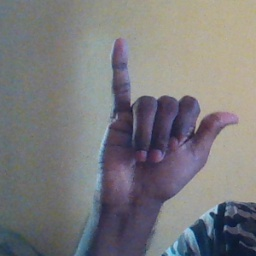J: (90, 37, 241, 203)
